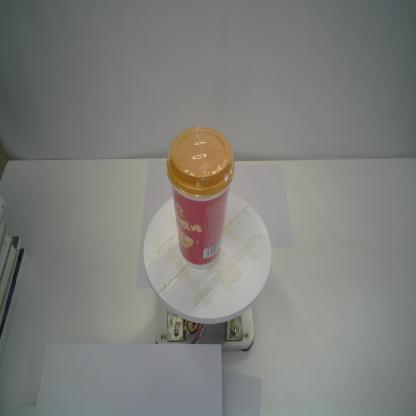Instant Drink: (166, 126, 236, 270)
